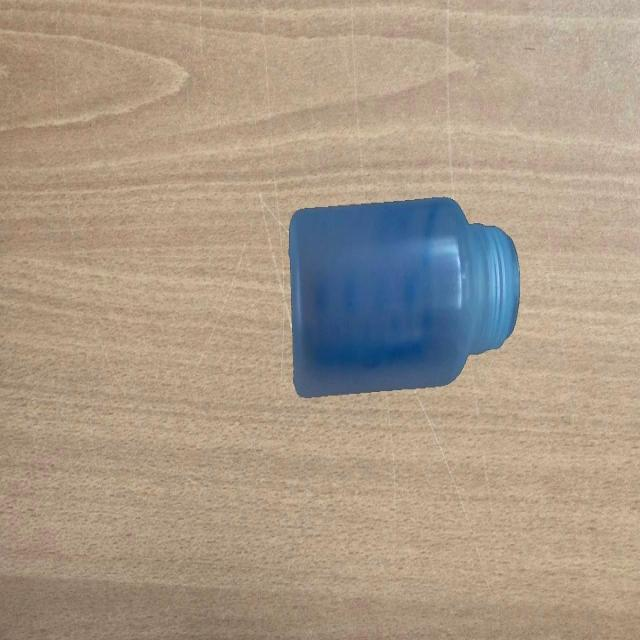bottle: (289, 194, 521, 398)
